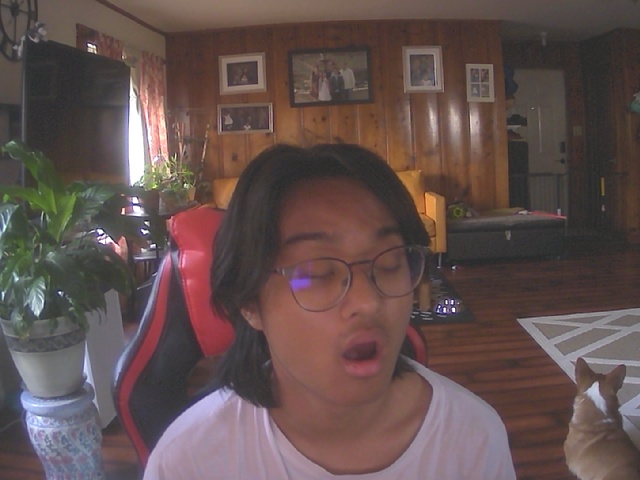fear: (234, 153, 433, 416)
